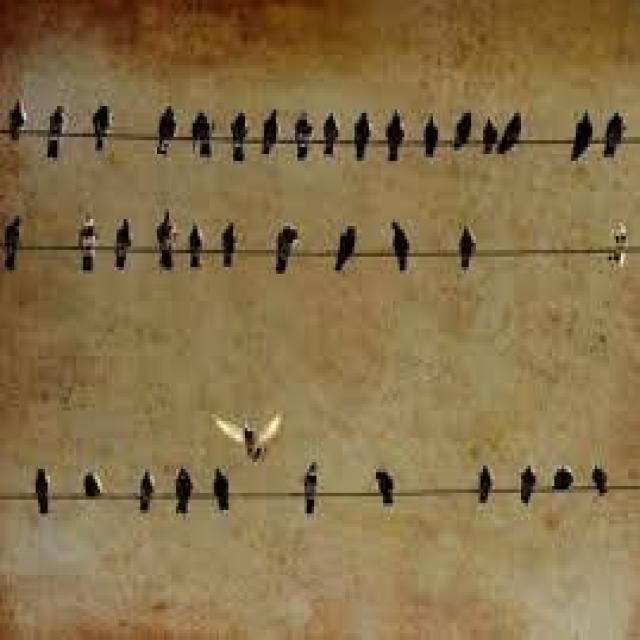bird: (213, 409, 281, 461), (1, 210, 26, 276), (568, 106, 595, 166), (600, 106, 630, 160), (77, 214, 101, 276), (157, 208, 179, 274), (225, 111, 251, 166), (274, 224, 299, 281), (332, 220, 357, 277), (289, 108, 313, 165), (153, 102, 177, 158), (44, 103, 66, 164), (4, 94, 27, 150), (318, 110, 342, 162), (383, 111, 406, 165), (112, 214, 132, 274), (259, 103, 279, 161), (450, 106, 473, 156), (389, 220, 411, 270), (91, 102, 112, 154), (185, 217, 205, 271), (611, 217, 632, 267), (190, 108, 210, 160), (500, 111, 523, 156), (215, 224, 238, 269), (174, 470, 195, 518), (457, 223, 476, 274), (212, 470, 232, 517), (140, 468, 158, 520), (352, 111, 370, 162), (301, 458, 316, 514), (588, 460, 609, 500), (548, 465, 574, 497), (475, 465, 493, 508), (36, 466, 51, 516), (423, 114, 440, 158), (373, 470, 394, 505), (82, 471, 104, 503), (520, 463, 536, 507), (482, 119, 497, 157)
